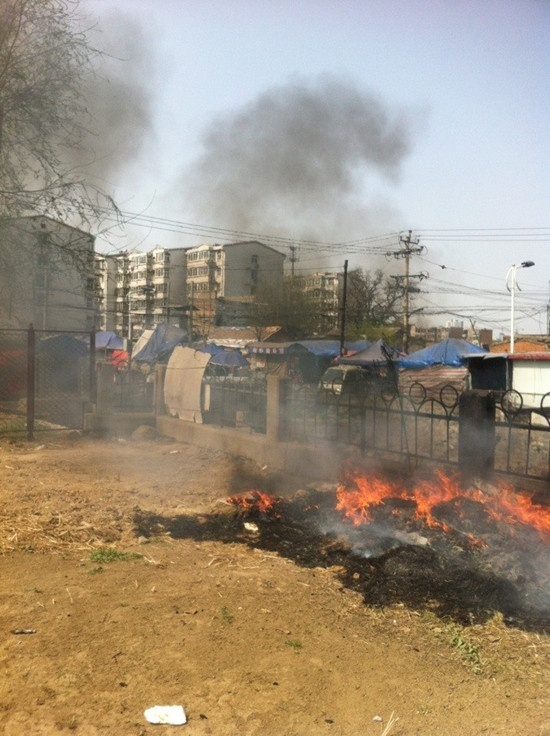fire: (335, 465, 548, 549), (226, 486, 276, 511)
